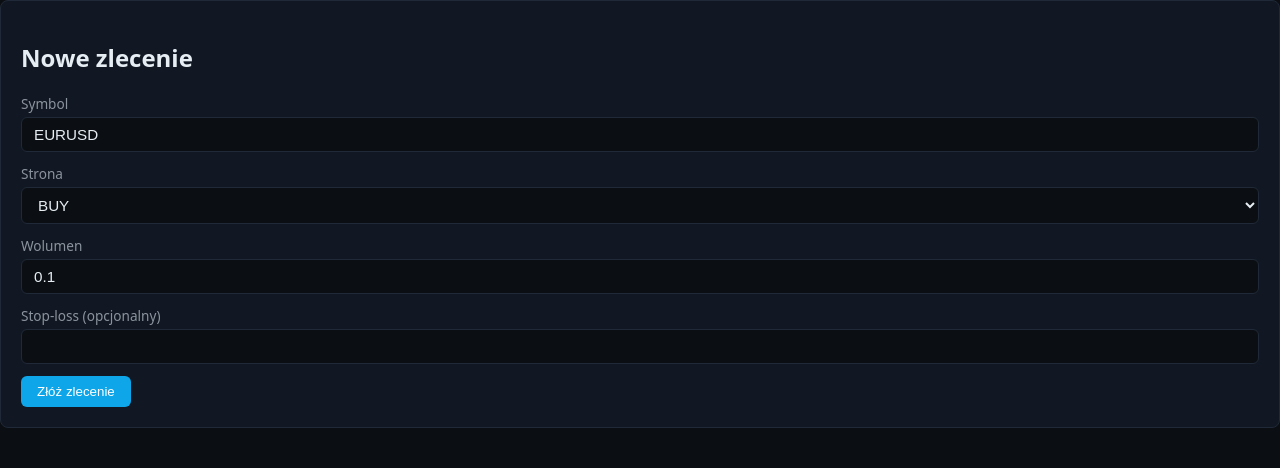
Test: OrderForm — walidacja touched-first › błąd wolumenu po wpisaniu ujemnej wartości
Replace the text in the number field with test id "order-volume" with "-1": (640, 276) [21,259,1259,294]
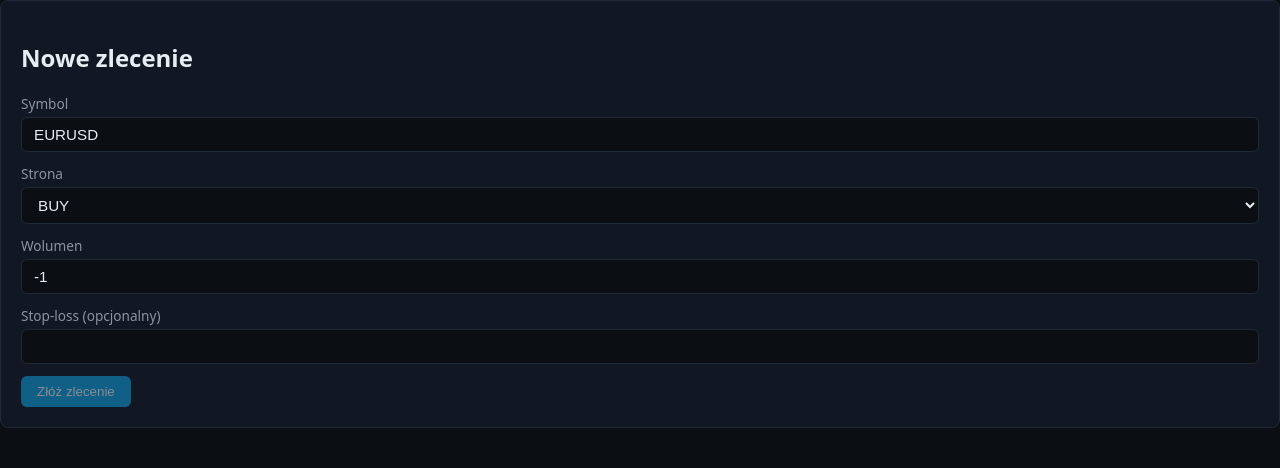
Leave the number field with test id "order-volume", box [21,259,1259,294]
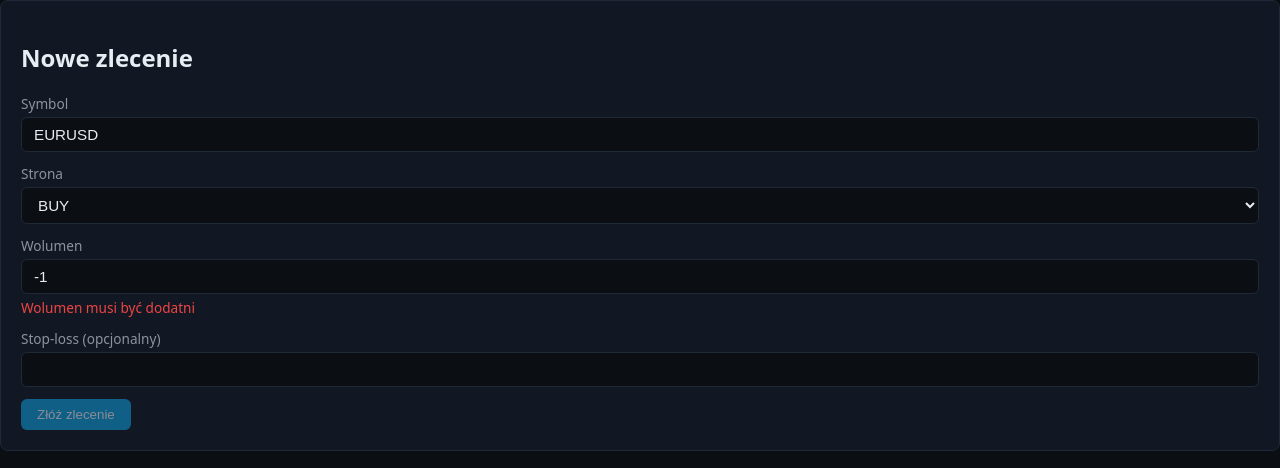
Now the text with test id "order-volume-error" shows "dodatni", box [21,298,195,317]
